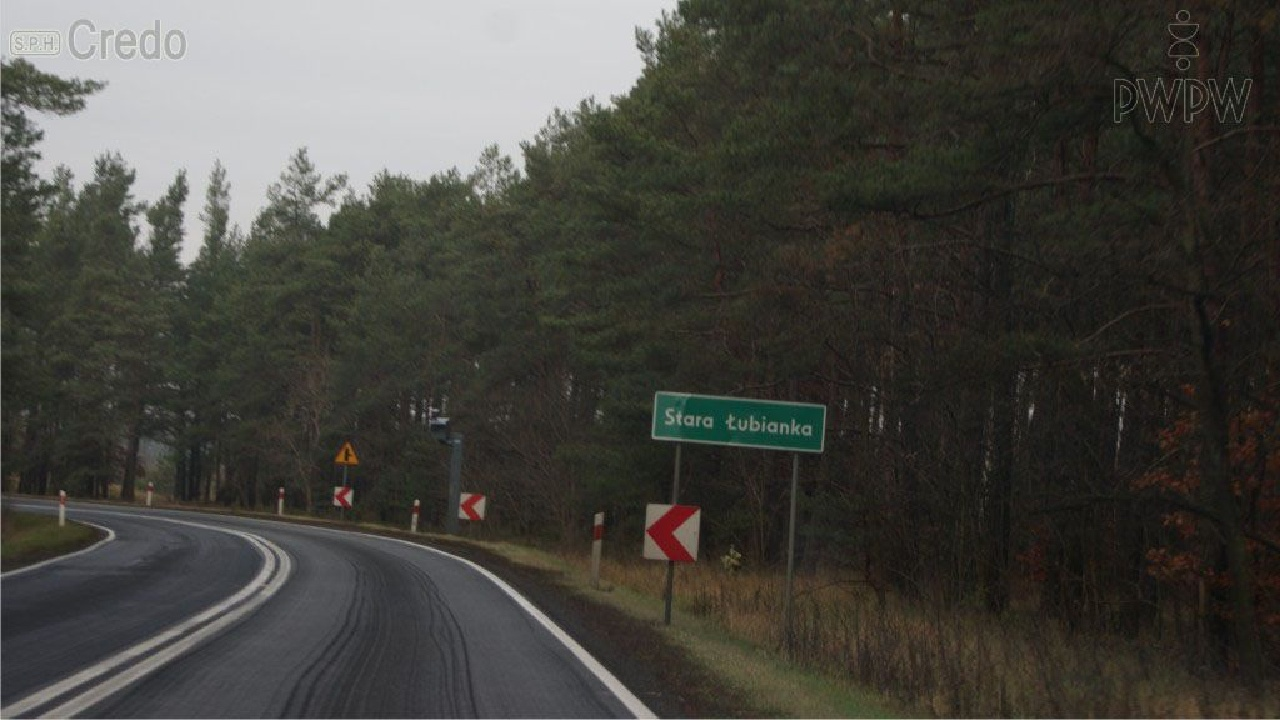A6b: (329, 433, 365, 472)
